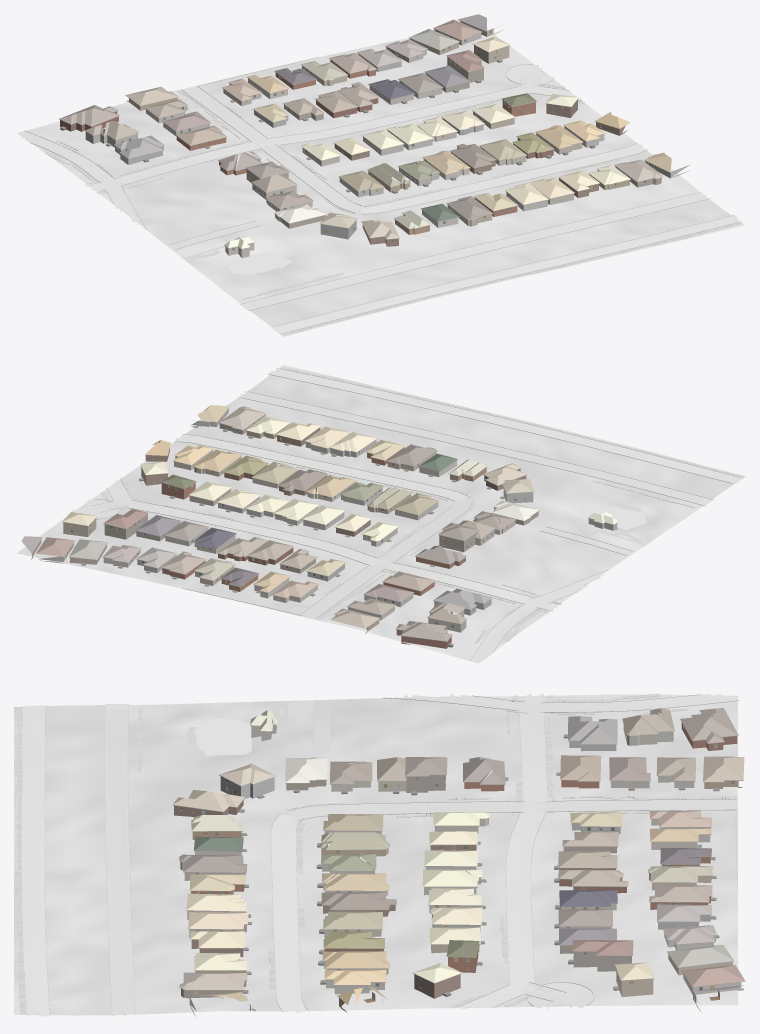
3 views of the same model, one above another, from view 1: azimuth 30°, elevation 25°; view 2: azimuth 150°, elevation 25°; view 3: azimuth 270°, elevation 25° (orthographic). The views are drawn at different scales.
Parts seen in each view (by area): view 1: ground, roof, concrete, asphalt, wall, curb, wall_stucco, detail, walk, wall_stone, water, mark_w; view 2: ground, roof, concrete, asphalt, wall, curb, wall_stucco, detail, walk, wall_stone, water, mark_w; view 3: ground, roof, concrete, asphalt, wall, walk, detail, wall_stucco, curb, wall_stone, water, mark_w (+1 smaller).
Part boxes in pixels (box(x1,y1,x2,y2)): ground: box(17, 29, 744, 336); roof: box(59, 14, 671, 248); concrete: box(85, 64, 647, 249); asphalt: box(19, 131, 742, 333); wall: box(60, 21, 661, 246); curb: box(24, 57, 741, 333); wall_stucco: box(85, 54, 582, 239); detail: box(59, 19, 685, 250); walk: box(45, 82, 742, 332); wall_stone: box(146, 29, 689, 257); water: box(226, 251, 293, 275); mark_w: box(28, 82, 736, 333); ground: box(17, 365, 745, 663); roof: box(21, 405, 617, 641); concrete: box(71, 434, 632, 619); asphalt: box(240, 368, 740, 662); wall: box(31, 414, 538, 648); curb: box(91, 368, 741, 660); wall_stucco: box(137, 442, 533, 632); detail: box(32, 407, 618, 647); walk: box(101, 367, 735, 643); wall_stone: box(38, 408, 617, 620); water: box(582, 505, 647, 530); mark_w: box(112, 369, 742, 661); ground: box(14, 694, 737, 1015); roof: box(172, 708, 744, 1004); concrete: box(271, 693, 736, 1012); asphalt: box(22, 693, 737, 1016); wall: box(174, 722, 742, 1012); walk: box(15, 693, 736, 1014); detail: box(172, 710, 745, 1011); wall_stucco: box(180, 725, 711, 975); curb: box(17, 694, 738, 1015); wall_stone: box(187, 719, 743, 1016); water: box(195, 718, 251, 756); mark_w: box(22, 694, 737, 1015).
Size of the model in its own units: 261 by 15.13 by 253.
